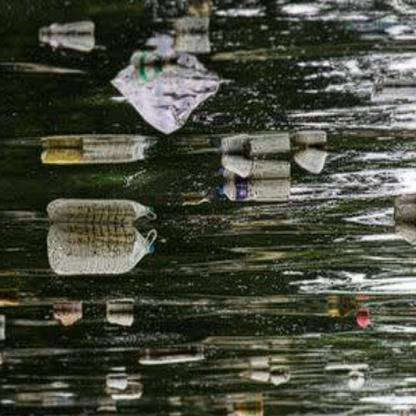Plastic: (48, 215, 158, 278), (36, 26, 94, 52), (217, 182, 291, 202), (237, 363, 271, 390), (268, 362, 296, 390), (231, 402, 270, 416), (104, 372, 129, 391)
Trash: (107, 66, 228, 128), (218, 156, 258, 179), (296, 150, 327, 171), (107, 308, 135, 331), (349, 308, 375, 330)
